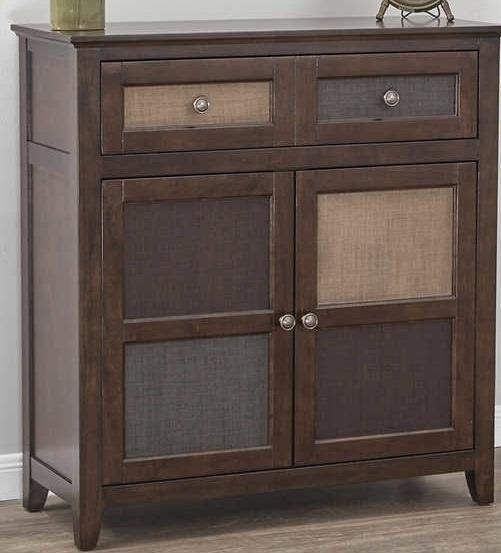cabinet_door: (101, 182, 295, 478), (299, 168, 477, 465), (101, 60, 294, 152), (293, 56, 474, 144)
handle: (300, 308, 319, 338), (381, 83, 401, 111), (191, 93, 211, 120), (278, 311, 296, 340)
